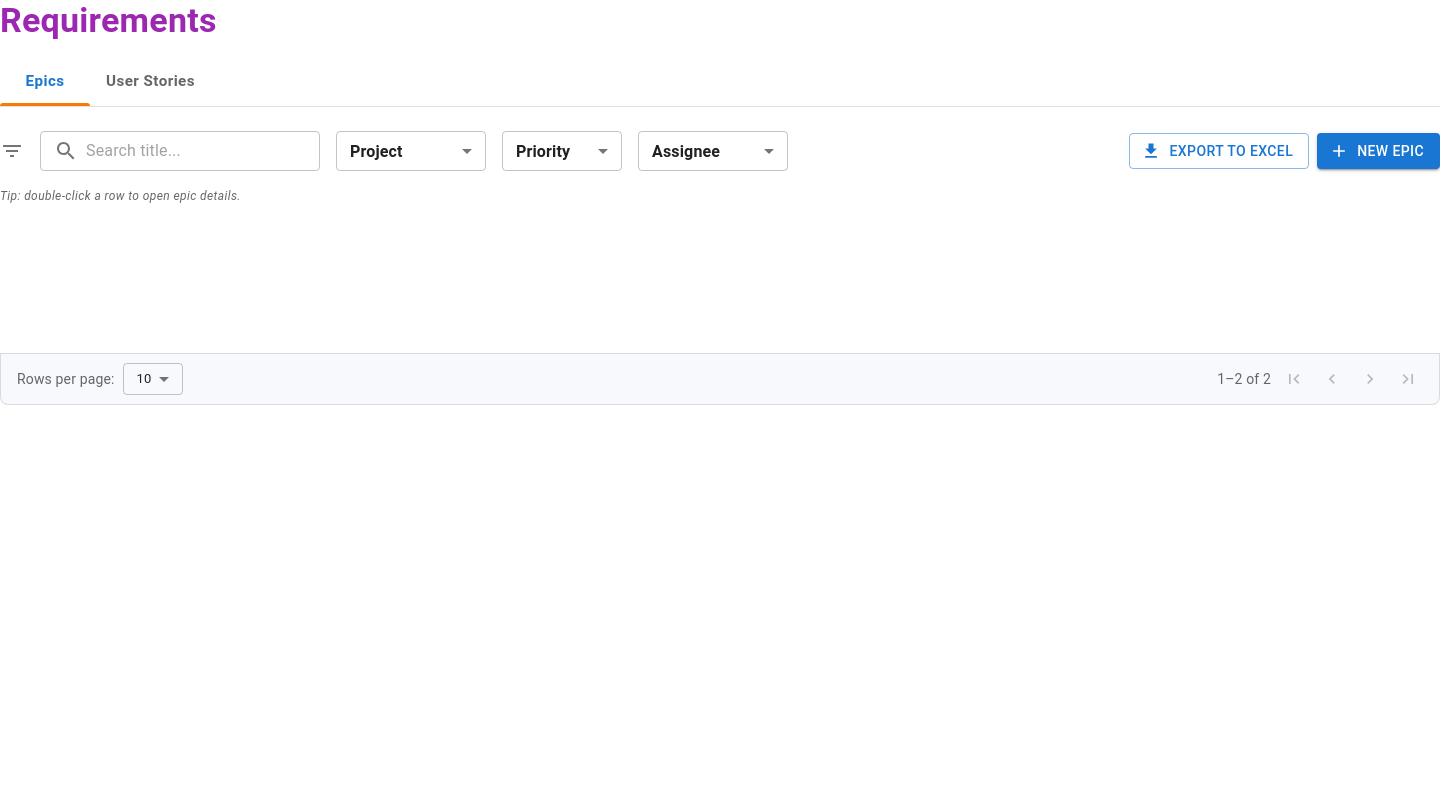
Test: RequirementsPage › opens the New Epic dialog when editor clicks the button
Click the button "New Epic" at [1379, 151], box [1317, 133, 1439, 169]
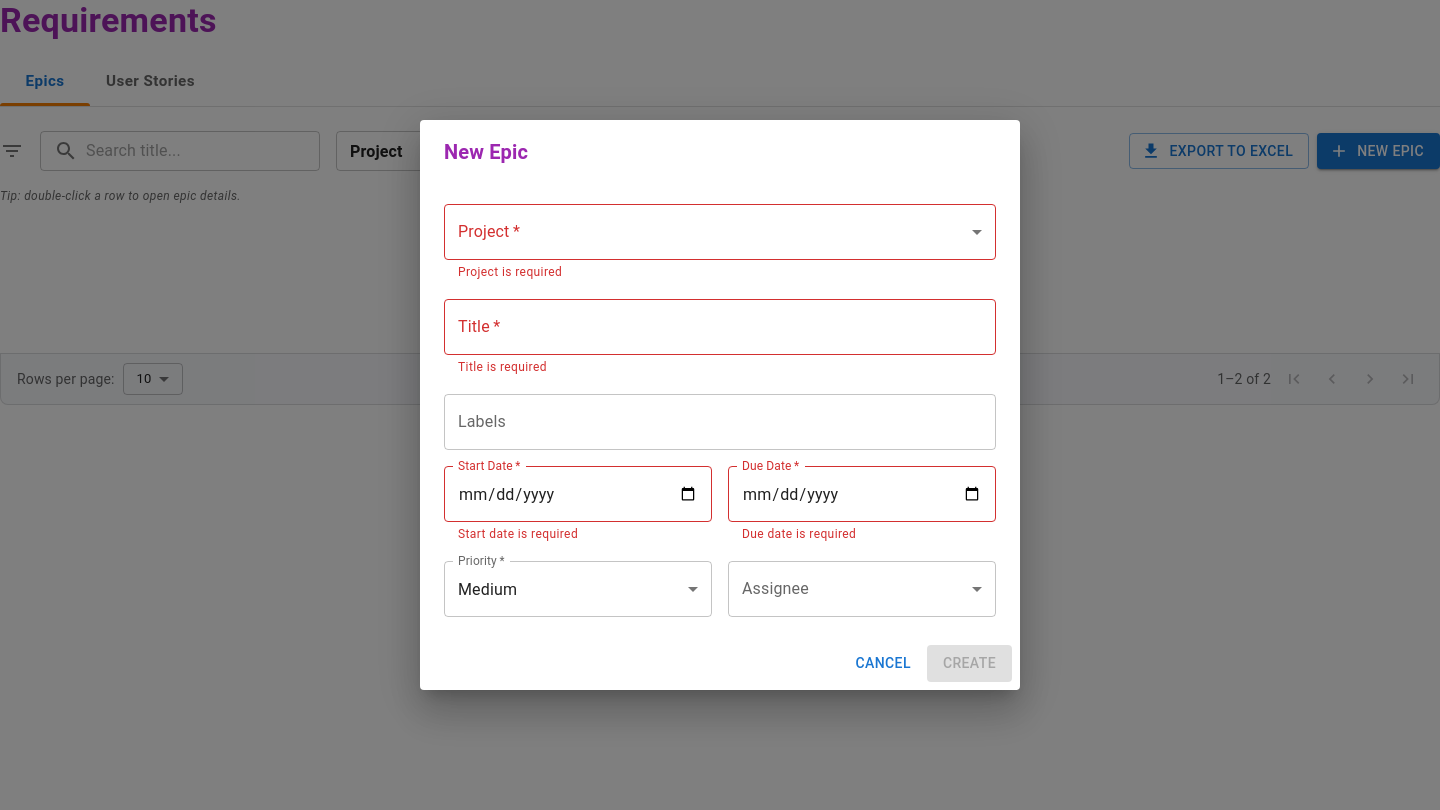
Expected: the heading "New Epic" is shown, [444, 140, 528, 164]
